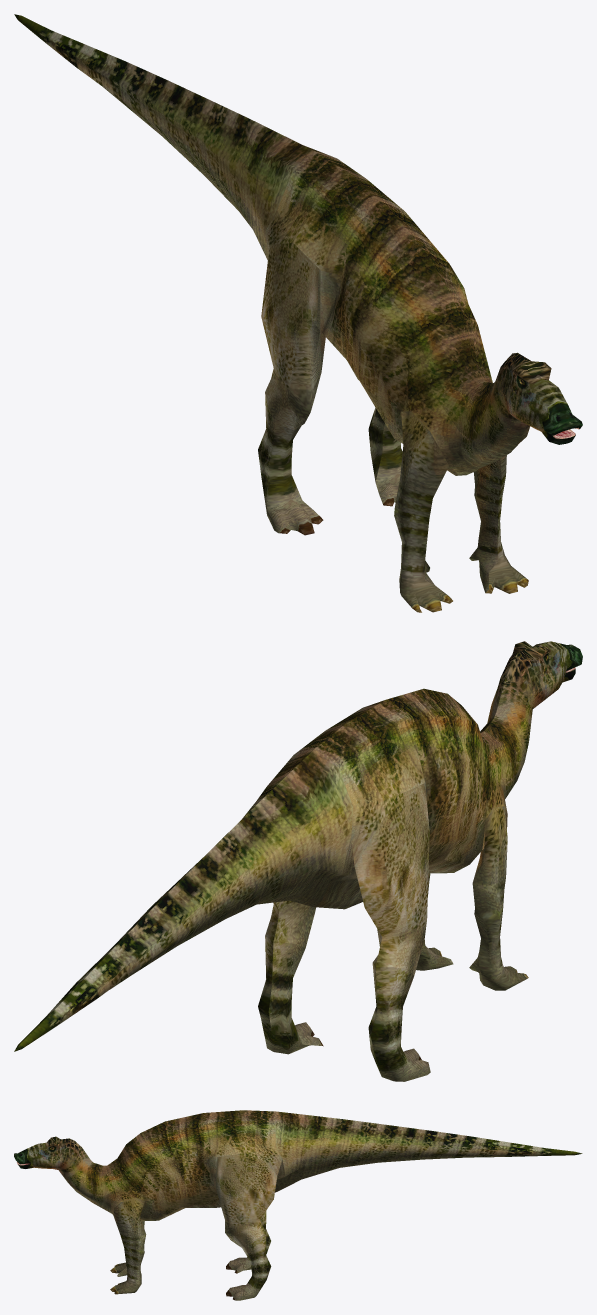
3 renders of one model, top to bottom at view 1: azimuth 30°, elevation 25°; view 2: azimuth 150°, elevation 25°; view 3: azimuth 270°, elevation 25°, orthographic. The views are drawn at different scales.
Visible parts, largest first — view 1: ed; view 2: ed; view 3: ed.
Part boxes in pixels (left/top/right/bottom): ed: left=14, top=14, right=582, bottom=612; ed: left=14, top=641, right=582, bottom=1081; ed: left=14, top=1110, right=582, bottom=1300.
Bounding box in the file's own units: 2.1 × 4.4 × 13.23.
Materials: 1 (1 with a texture image).
